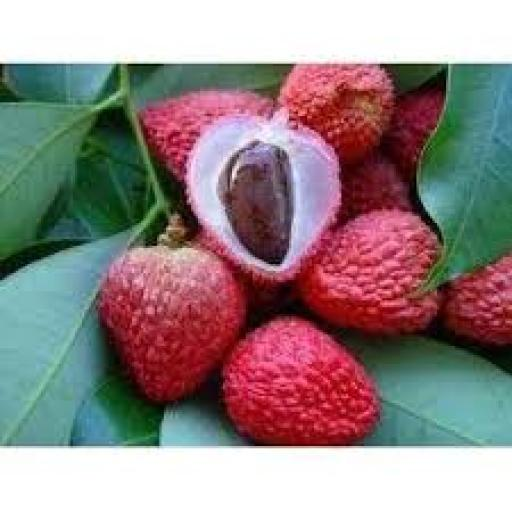lychee: (187, 112, 341, 282), (98, 246, 245, 402), (224, 317, 377, 446), (299, 210, 441, 334), (142, 89, 273, 179), (278, 64, 393, 163), (444, 255, 511, 345), (385, 87, 443, 182), (342, 153, 411, 220), (228, 262, 295, 320)
